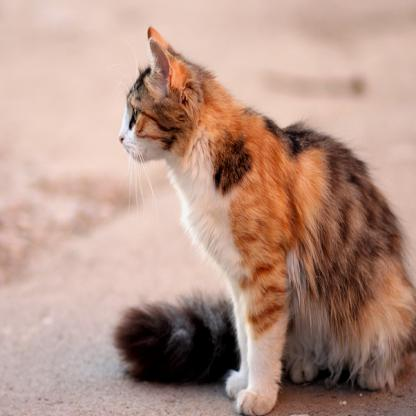cat: (113, 27, 416, 415)
